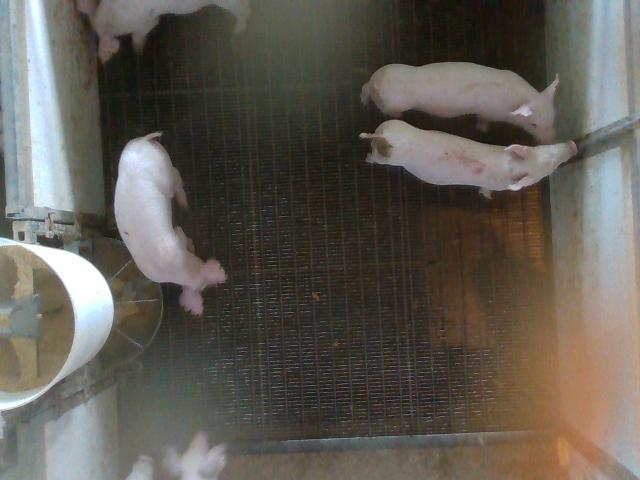pig-5: (360, 120, 576, 197)
